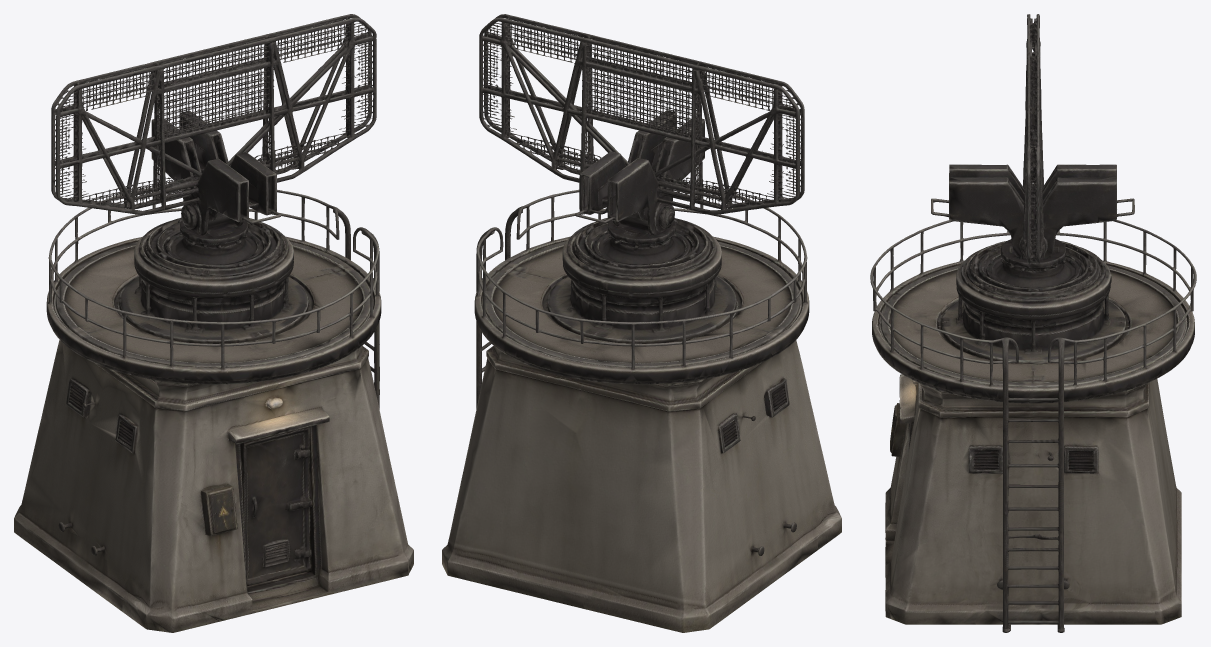
The model's file is radar_sentinel.glb.
3 renders of one model, left to right at view 1: azimuth 30°, elevation 25°; view 2: azimuth 150°, elevation 25°; view 3: azimuth 270°, elevation 25°, orthographic. The views are drawn at different scales.
Visible parts, largest first — view 1: radar_sentinel; view 2: radar_sentinel; view 3: radar_sentinel.
Boxes of the visible parts, left/top/right/bottom form: radar_sentinel: left=14, top=14, right=413, bottom=632; radar_sentinel: left=442, top=14, right=841, bottom=632; radar_sentinel: left=870, top=14, right=1196, bottom=632.
Size of the model in its own units: 1.28 by 1.9 by 1.17.
Materials: 1 (1 with a texture image).
